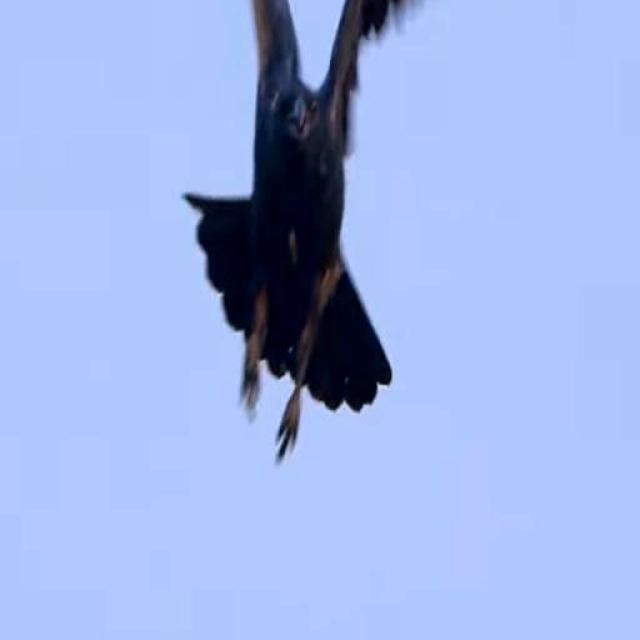airplane: (182, 0, 494, 465)
